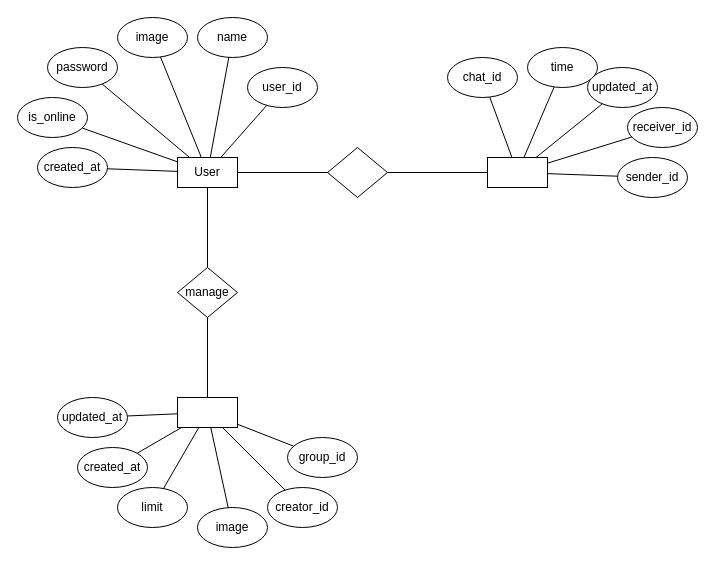
Some shapes in this 715 by 565 pixel diagram are drawn without their labels. The shapes that lost their labels are listed below. From the top down, each one's centre as x and y in pixels, then its label:
pixel 357 172: sends
pixel 517 172: Messeges
pixel 207 412: Group Chat
